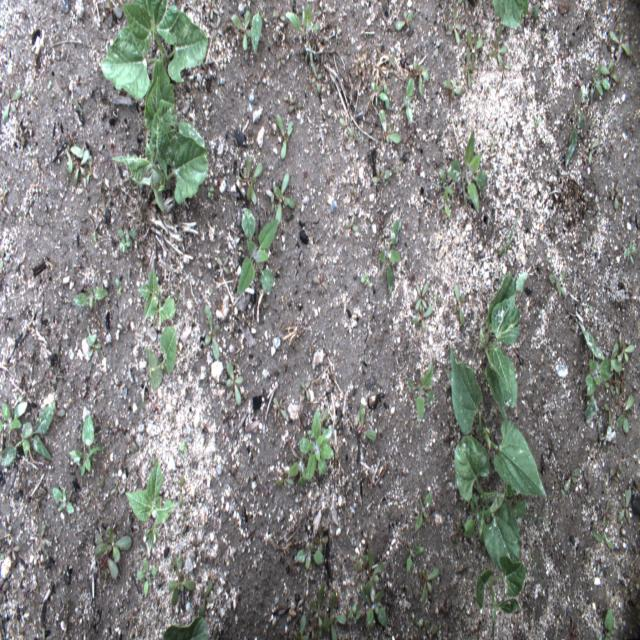crop: (448, 343, 550, 496), (110, 71, 213, 216), (456, 440, 532, 610), (98, 0, 212, 100), (479, 257, 529, 408)
weed: (121, 452, 181, 560), (581, 336, 632, 453), (235, 200, 284, 316), (1, 382, 59, 468), (440, 125, 488, 220), (300, 402, 339, 494), (139, 250, 181, 330), (281, 6, 331, 69), (281, 584, 346, 631), (144, 322, 178, 398), (578, 54, 620, 114), (358, 547, 391, 620), (58, 134, 93, 198), (94, 532, 136, 580), (266, 174, 299, 235), (68, 405, 94, 480), (172, 554, 209, 606), (488, 2, 539, 37), (294, 524, 328, 576), (382, 212, 405, 285), (225, 356, 250, 418), (228, 9, 262, 54), (234, 150, 263, 202), (202, 290, 221, 363), (377, 108, 402, 162), (68, 281, 114, 309), (50, 484, 75, 533), (416, 362, 435, 426), (358, 393, 381, 444), (415, 483, 438, 531), (370, 65, 392, 111), (461, 43, 478, 100), (418, 276, 437, 321), (273, 121, 295, 158), (422, 562, 442, 602), (394, 3, 418, 36), (404, 71, 416, 129)
